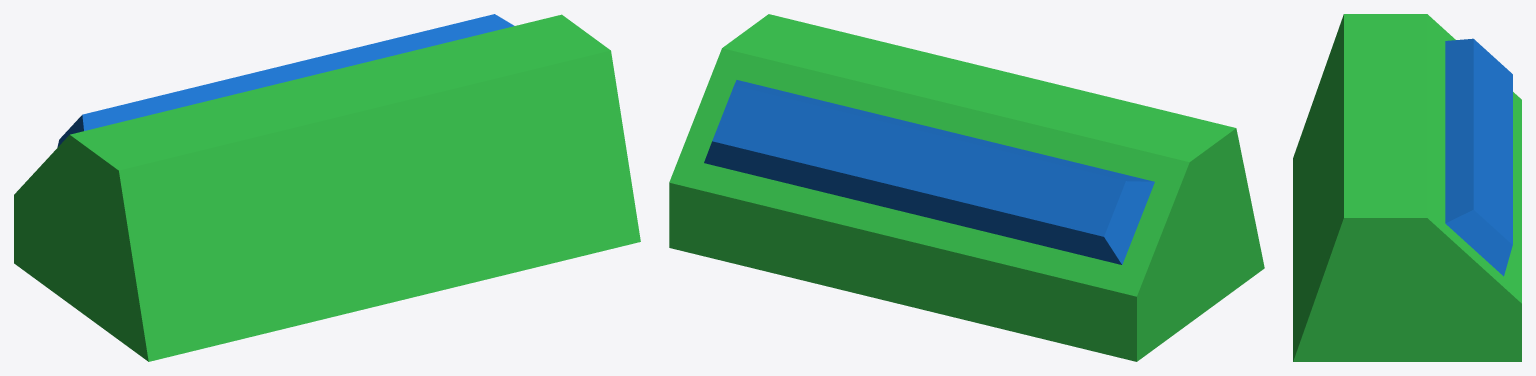
File: SM_floor_spotlight.fbx
3 renders of one model, left to right at view 1: azimuth 30°, elevation 25°; view 2: azimuth 150°, elevation 25°; view 3: azimuth 270°, elevation 25°, orthographic. The views are drawn at different scales.
Parts seen in each view (by area): view 1: floor_spotlight; view 2: floor_spotlight; view 3: floor_spotlight.
Boxes of the visible parts, x1,y1,x2,y2 form: floor_spotlight: (14, 14, 640, 361); floor_spotlight: (669, 14, 1264, 361); floor_spotlight: (1293, 14, 1521, 361).
Size of the model in its own units: 73.23 by 24.1 by 34.7.
